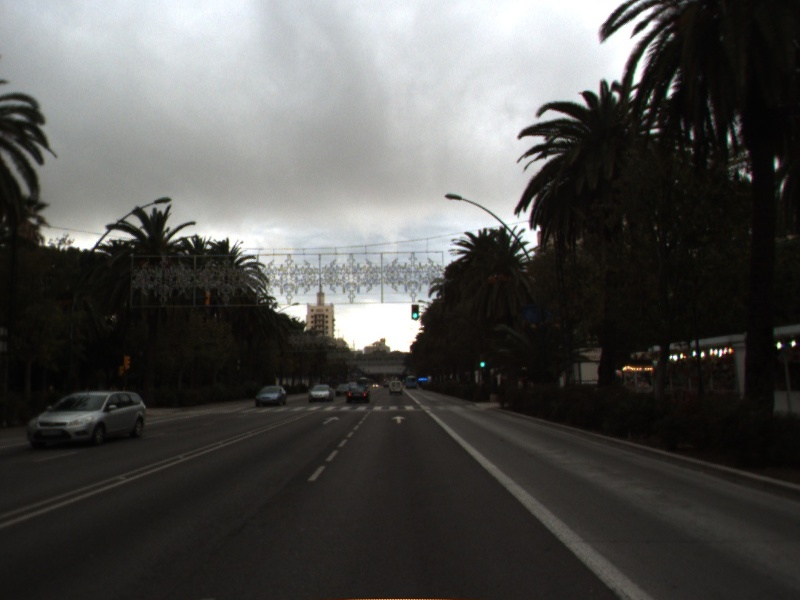STRAIGHT: (320, 414, 342, 426), (390, 413, 408, 425)
